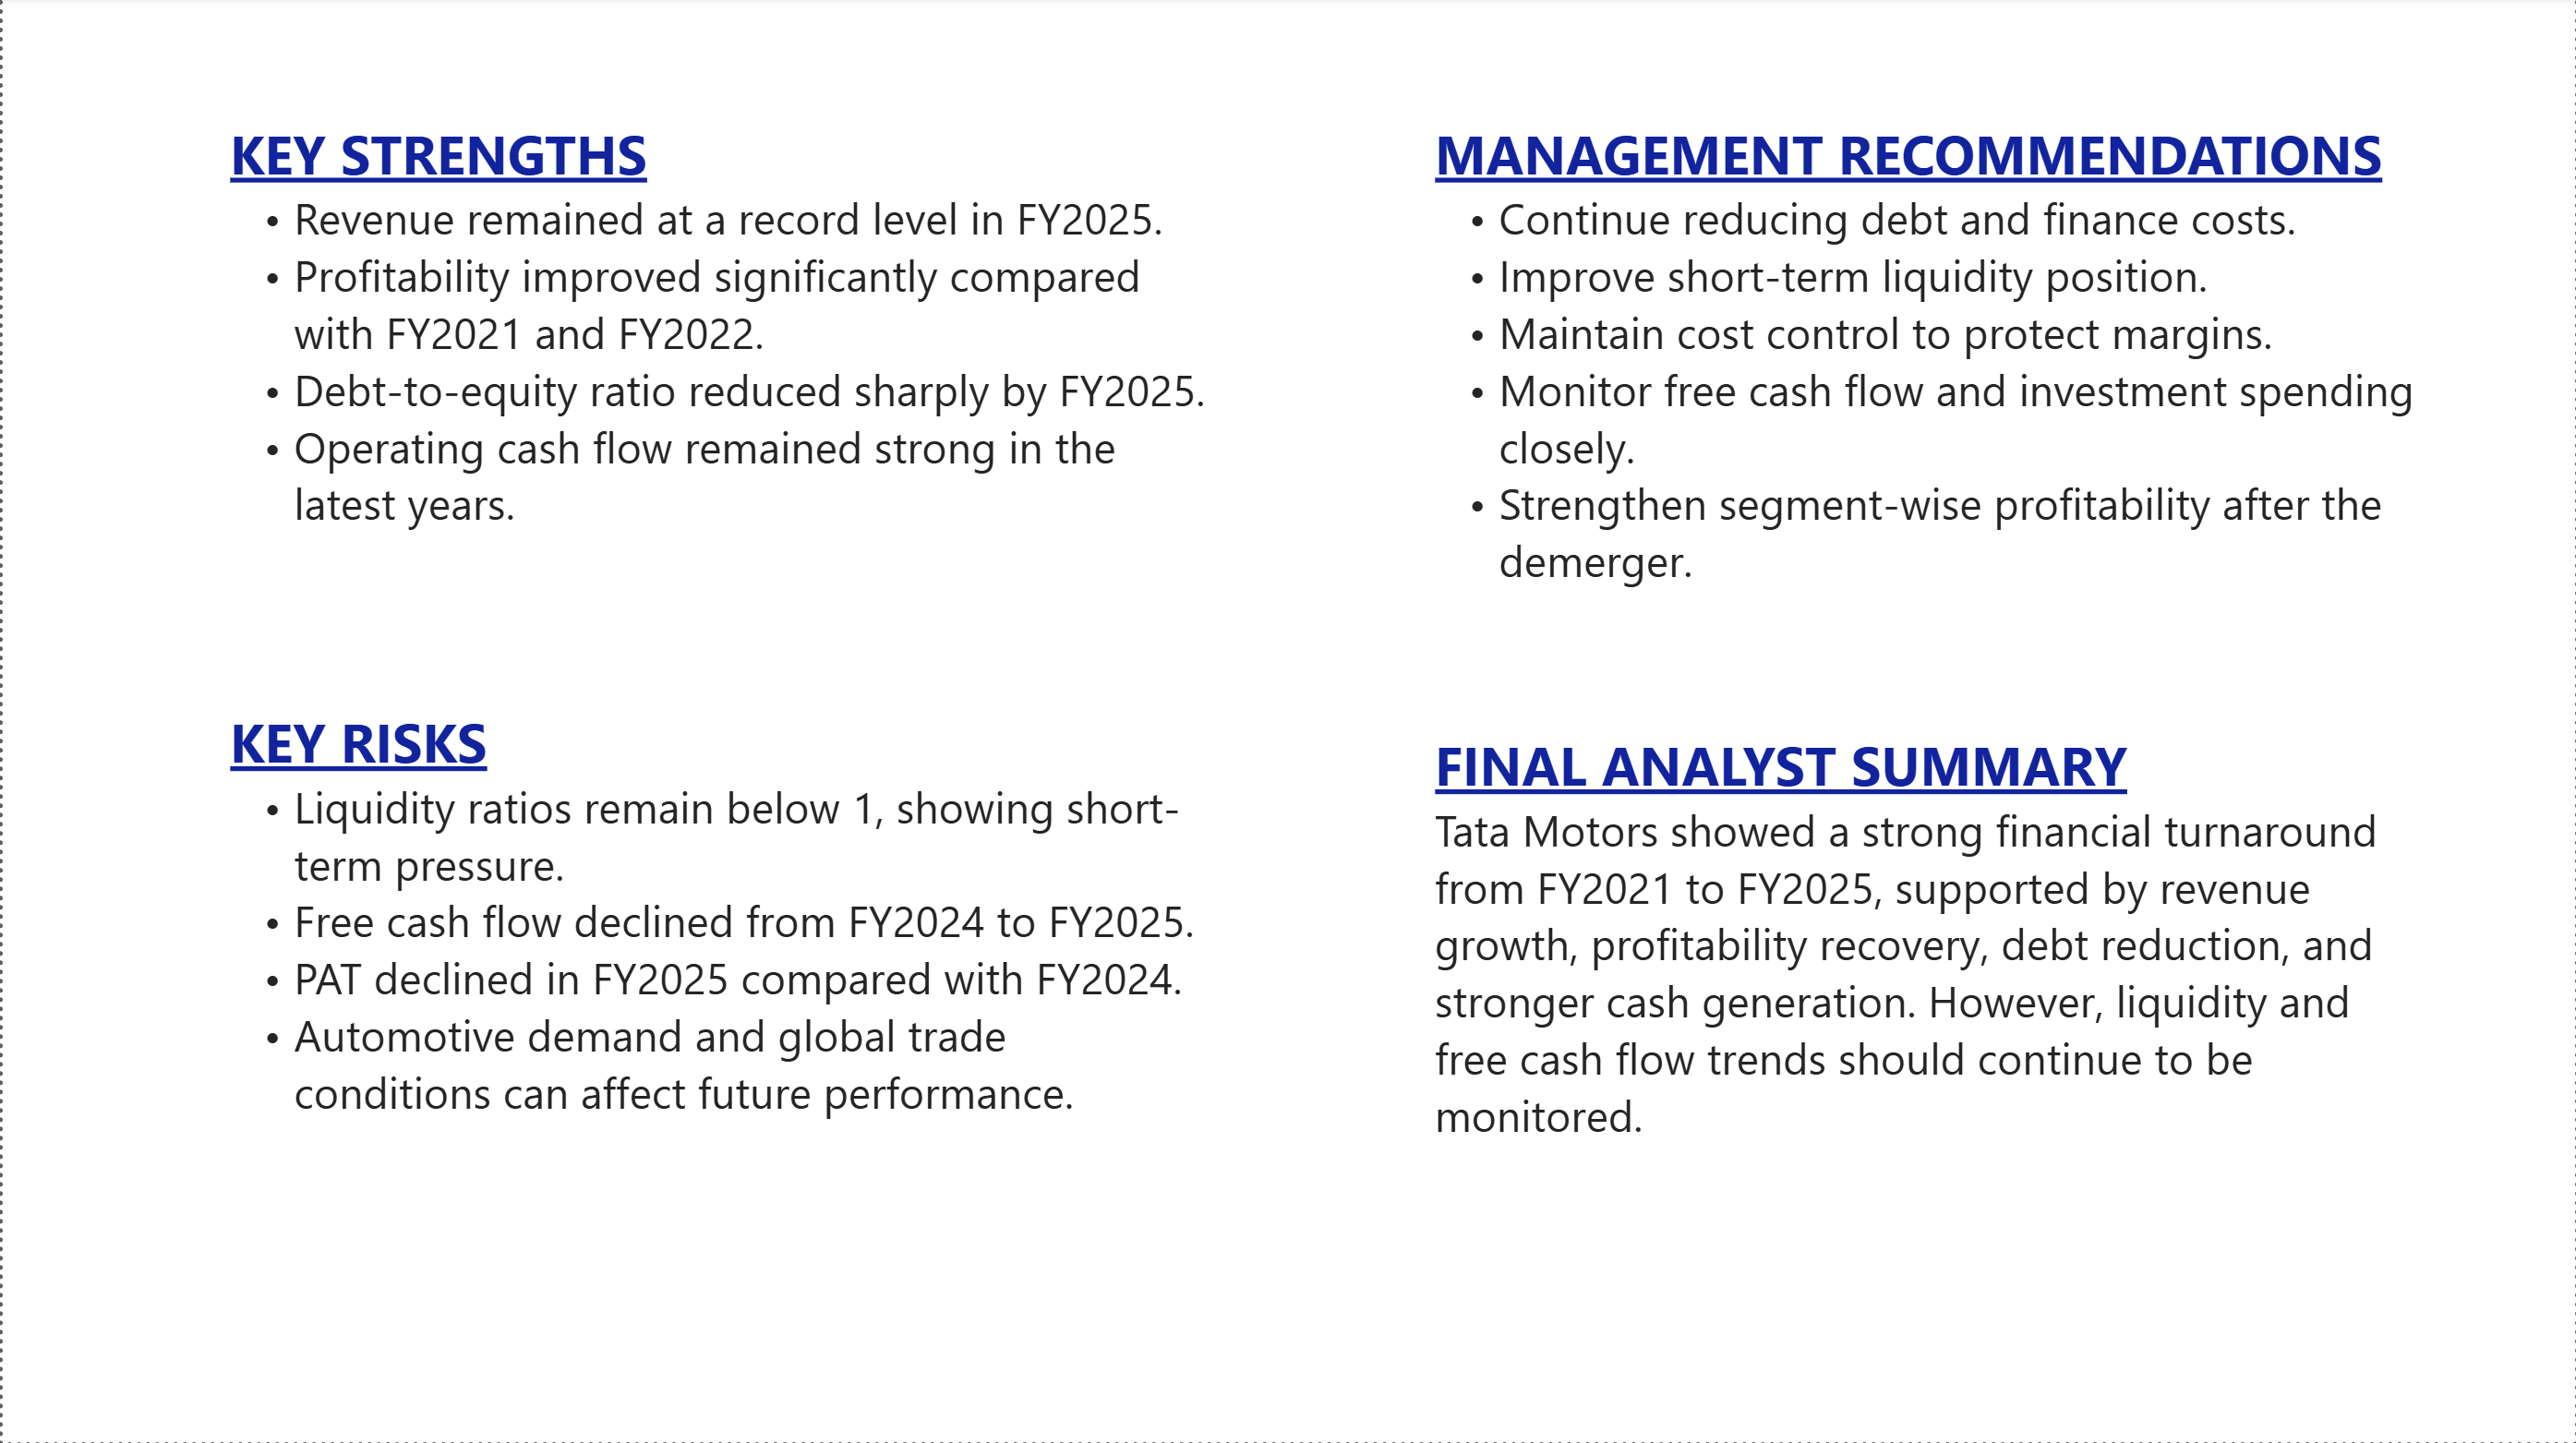

Layout of this report page (visuals, bound fields, positions):
{"tool":"powerbi","page":{"name":"Insights Recommendations","canvas":[1280,720],"ordinal":3},"visuals":[{"type":"textbox","box":[108.4,54.9,499.5,225],"z":0},{"type":"textbox","box":[108.4,348.5,499.5,249.7],"z":1000},{"type":"textbox","box":[708.1,54.9,499.5,251.1],"z":2000},{"type":"textbox","box":[708.1,359.5,499.5,223.7],"z":3000}]}

Visuals, with their boxes in screenshot pixels (x1, y1, x2, y2), scaled from the page's 1280x720 canvas onto the 2576x1443 screenshot:
textbox: (left=218, top=110, right=1223, bottom=561)
textbox: (left=218, top=699, right=1223, bottom=1199)
textbox: (left=1425, top=110, right=2430, bottom=613)
textbox: (left=1425, top=720, right=2430, bottom=1169)
